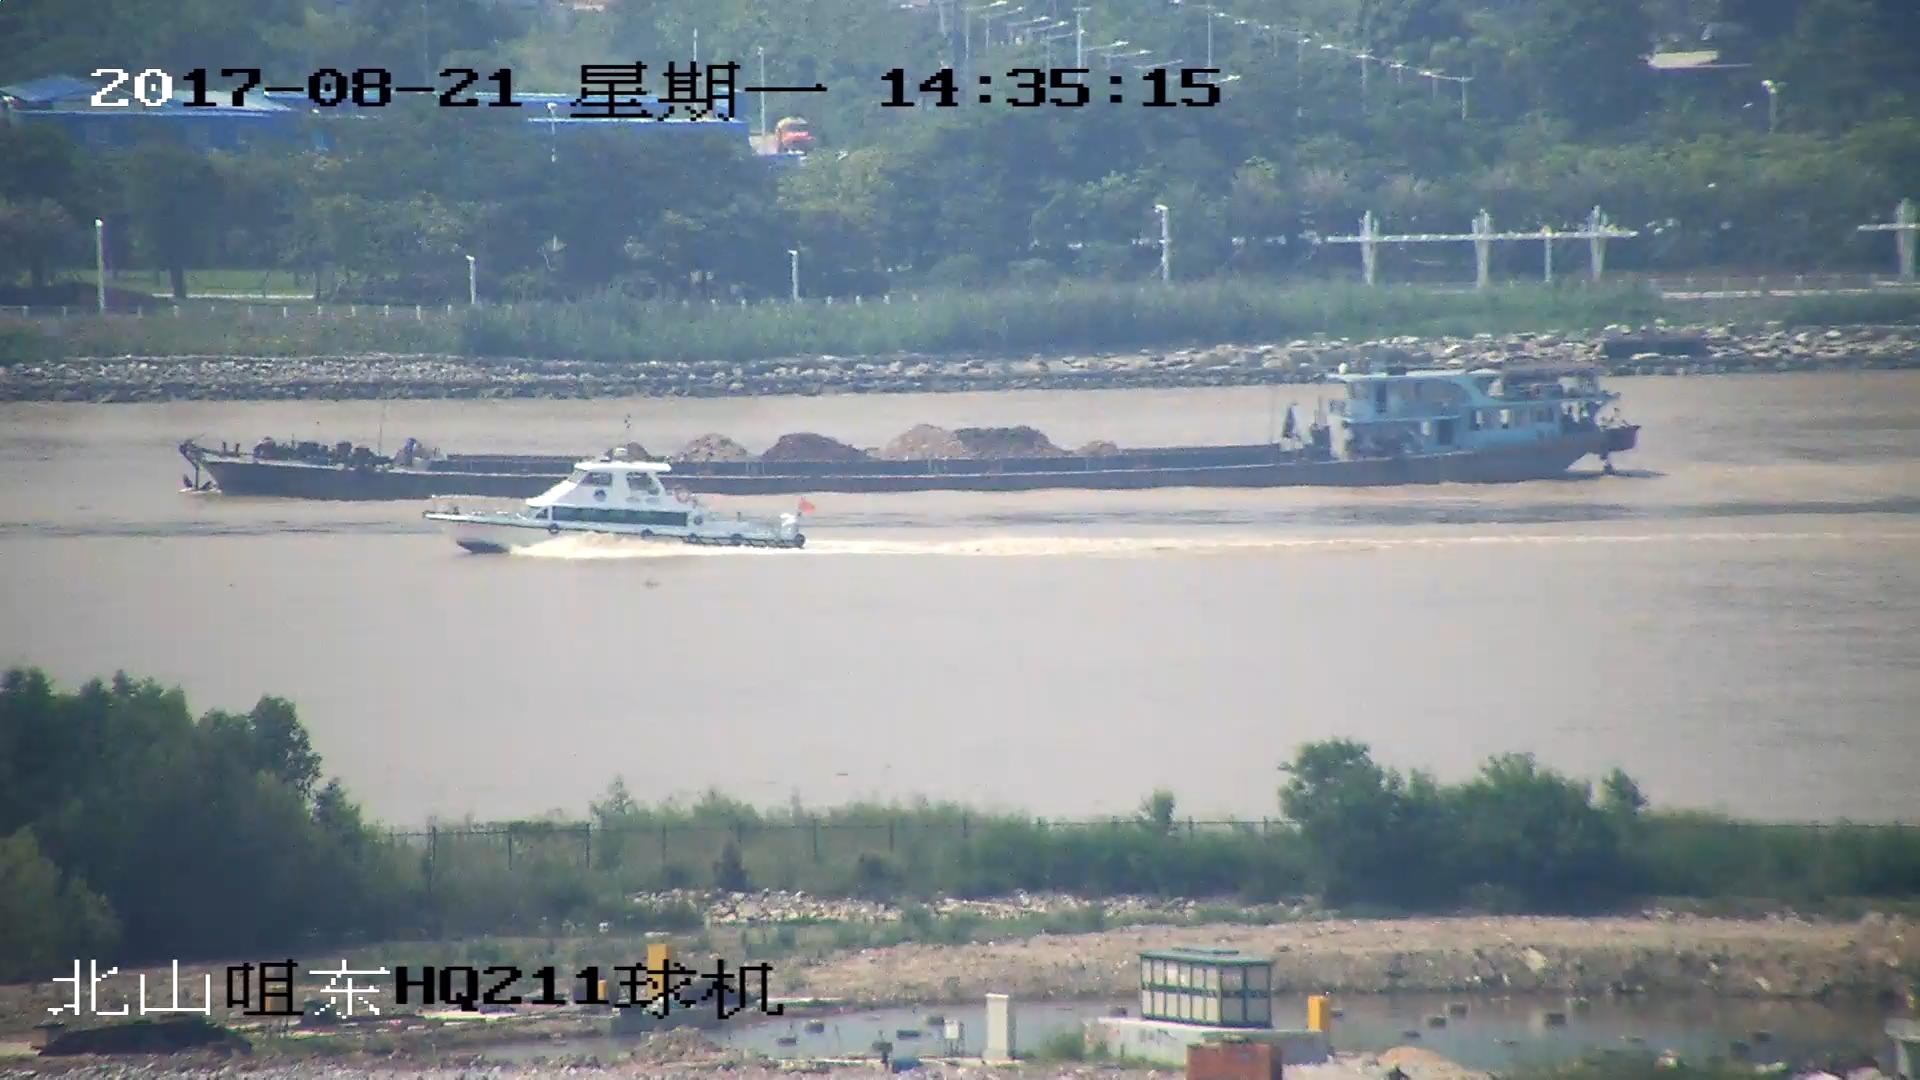ore carrier: (181, 370, 1638, 497)
passenger ship: (424, 454, 801, 557)
